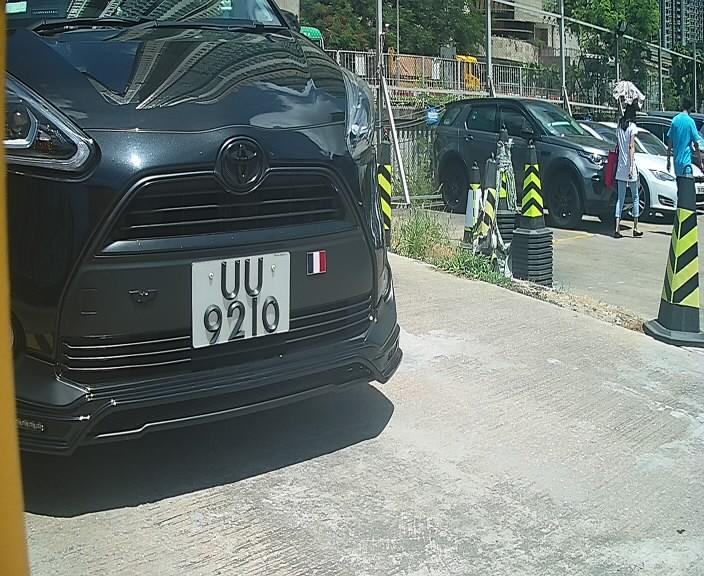privatecar: (2, 21, 412, 462)
